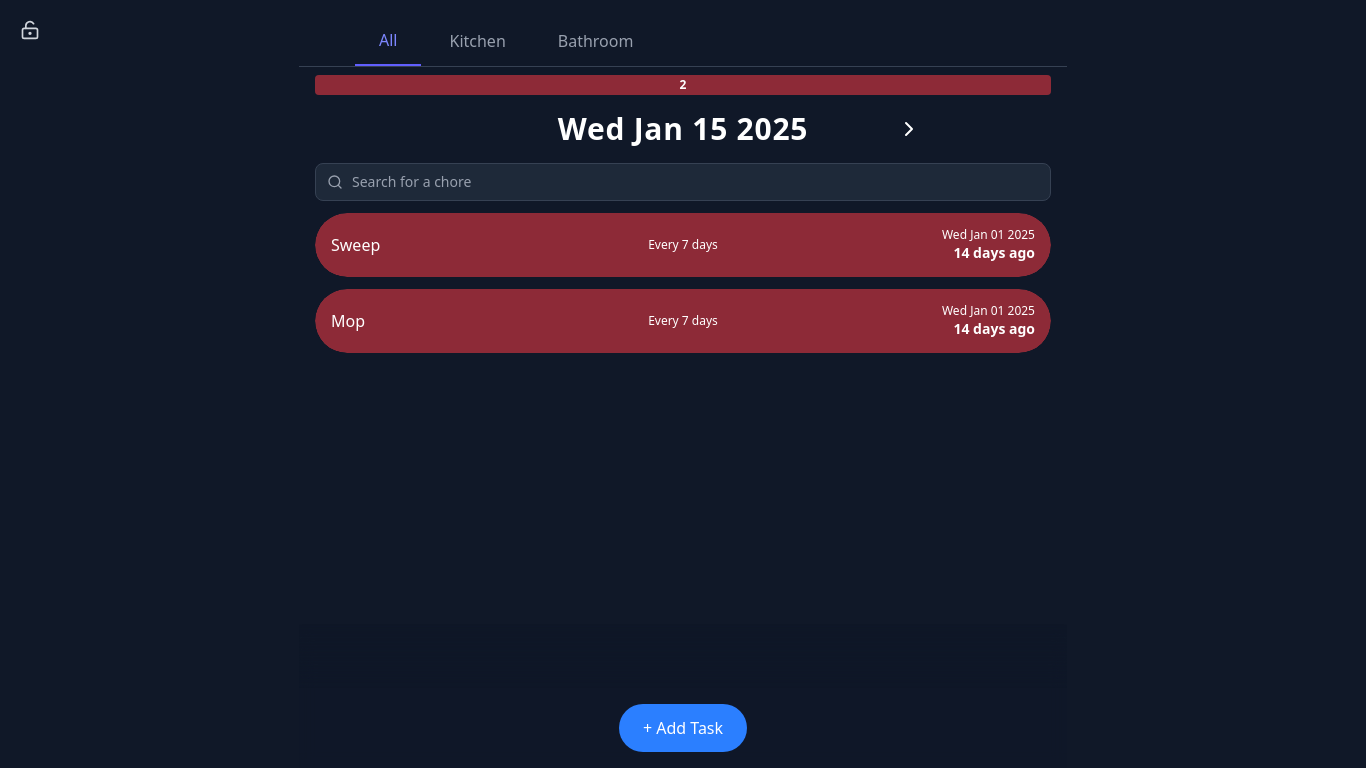
Test: chore-name search filter (F9) › matches the chore NAME only, not the room
Expected: the text "Sweep" is shown, [331,234,380,256]
// "Kitchen" is a room, not a name — nothing should match
Type "Kitchen" into the field with placeholder "Search for a chore" at (683, 182), box [315,163,1051,201]
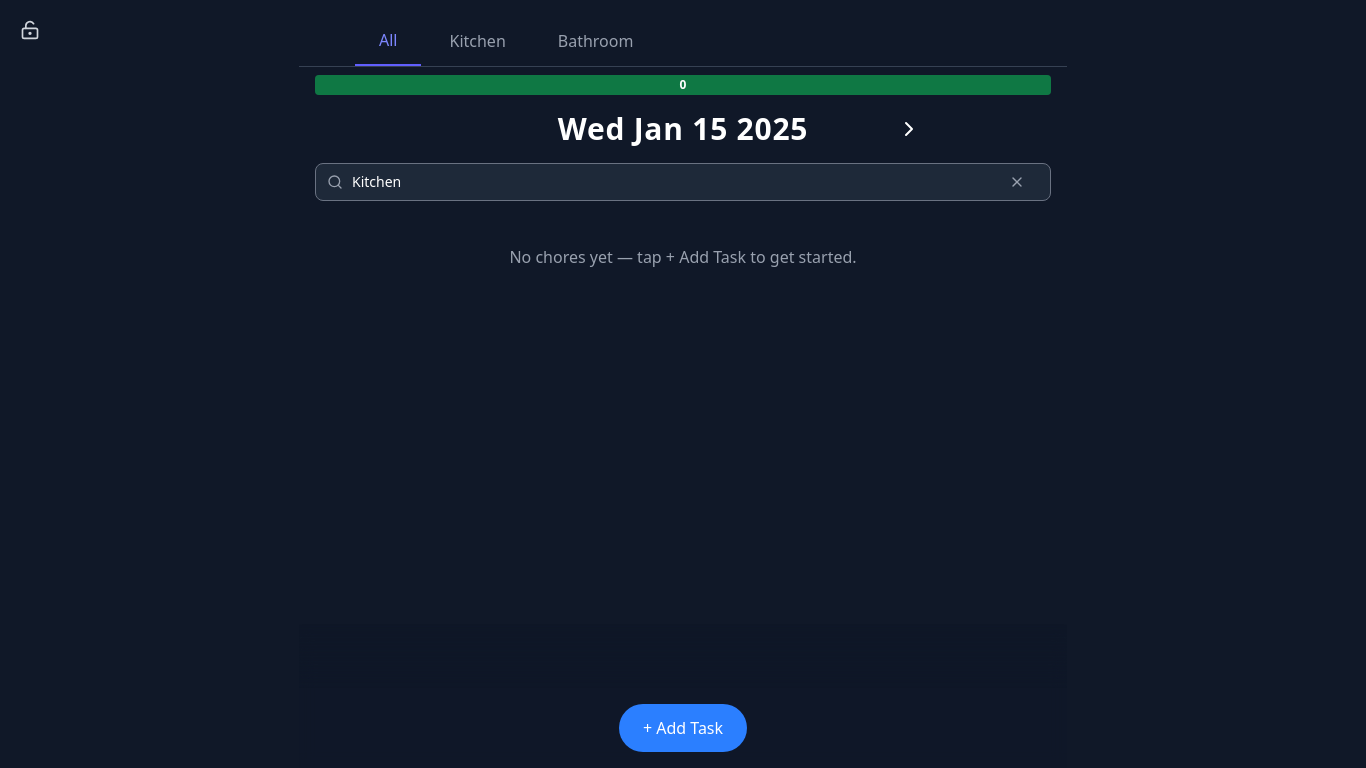
Expected: the text "Sweep" is gone
Expected: the text "Mop" is gone
